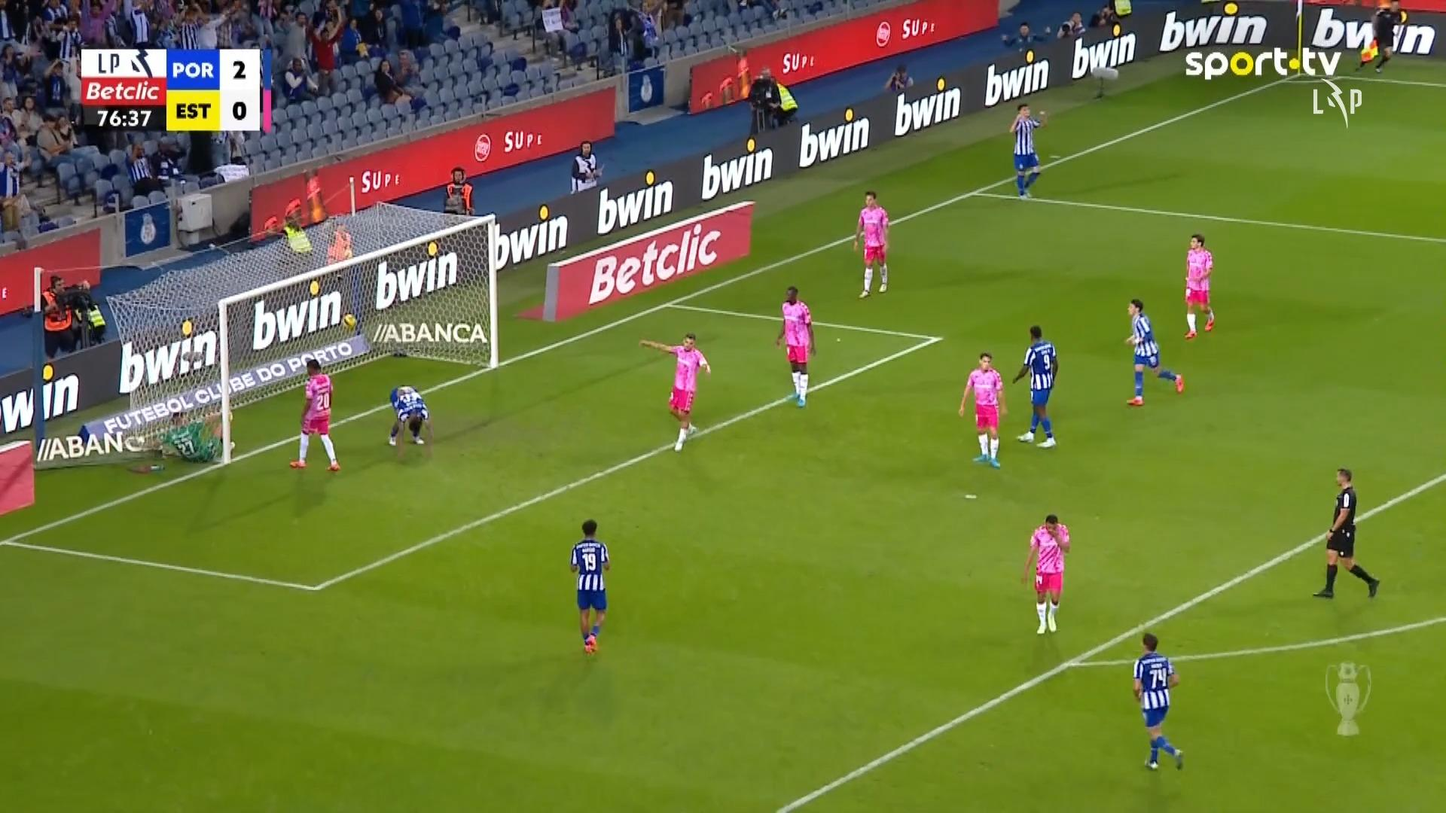ball: (342, 314, 355, 328)
goalkeeper: (147, 403, 237, 471)
player: (638, 331, 710, 452), (1131, 632, 1184, 770), (1124, 297, 1184, 405), (1020, 513, 1070, 635), (288, 356, 340, 471), (1011, 324, 1058, 448), (957, 351, 1006, 467), (569, 519, 610, 653), (775, 285, 816, 407), (853, 190, 890, 298), (1008, 102, 1048, 199), (1182, 233, 1216, 339), (387, 384, 431, 446)
referee: (1311, 467, 1380, 598), (1370, 0, 1408, 72)
